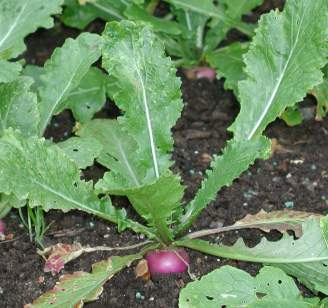turnip: (145, 247, 190, 276), (186, 68, 217, 79)
